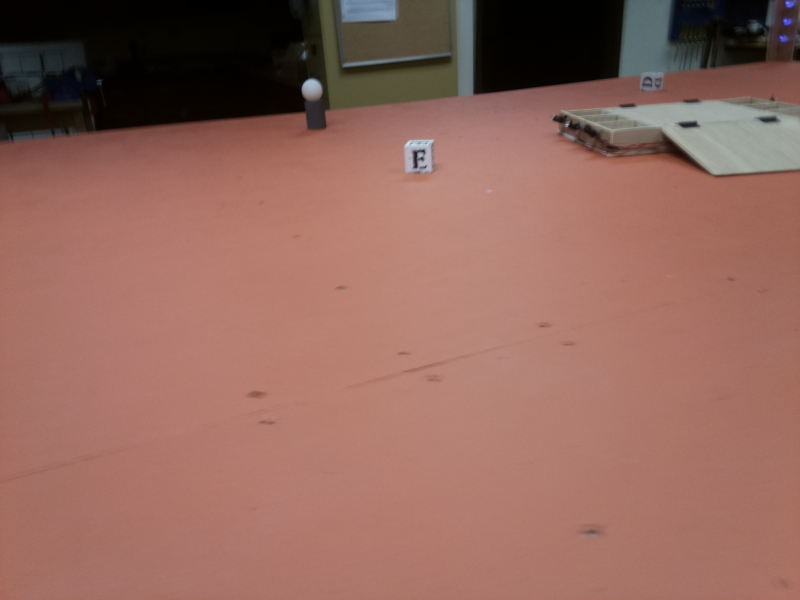blockE: (403, 139, 437, 176), (639, 69, 664, 93)
obstacle: (293, 77, 331, 130)
side: (557, 110, 614, 157), (746, 89, 800, 109)
slope: (655, 110, 800, 175)
